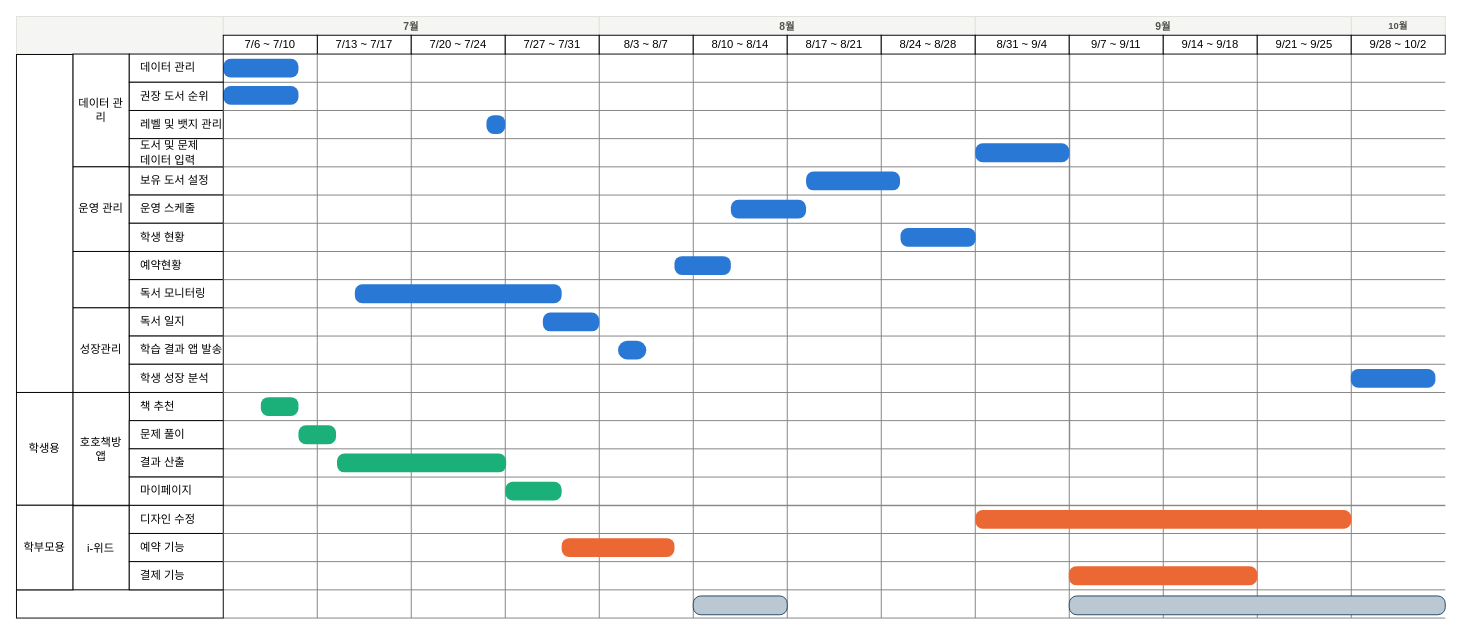
The diagram is 1462 pixels wide and 635 high, and some of its shapes have lost their labels. The shapes that lost their labels are listed below. From the top down, each one's centre as x and y in pixels, then its label:
At pixel 119 35: "전체 기능".
At pixel 44 223: "선생님용".
At pixel 100 279: "모니터링".
At pixel 119 603: "테스트".
